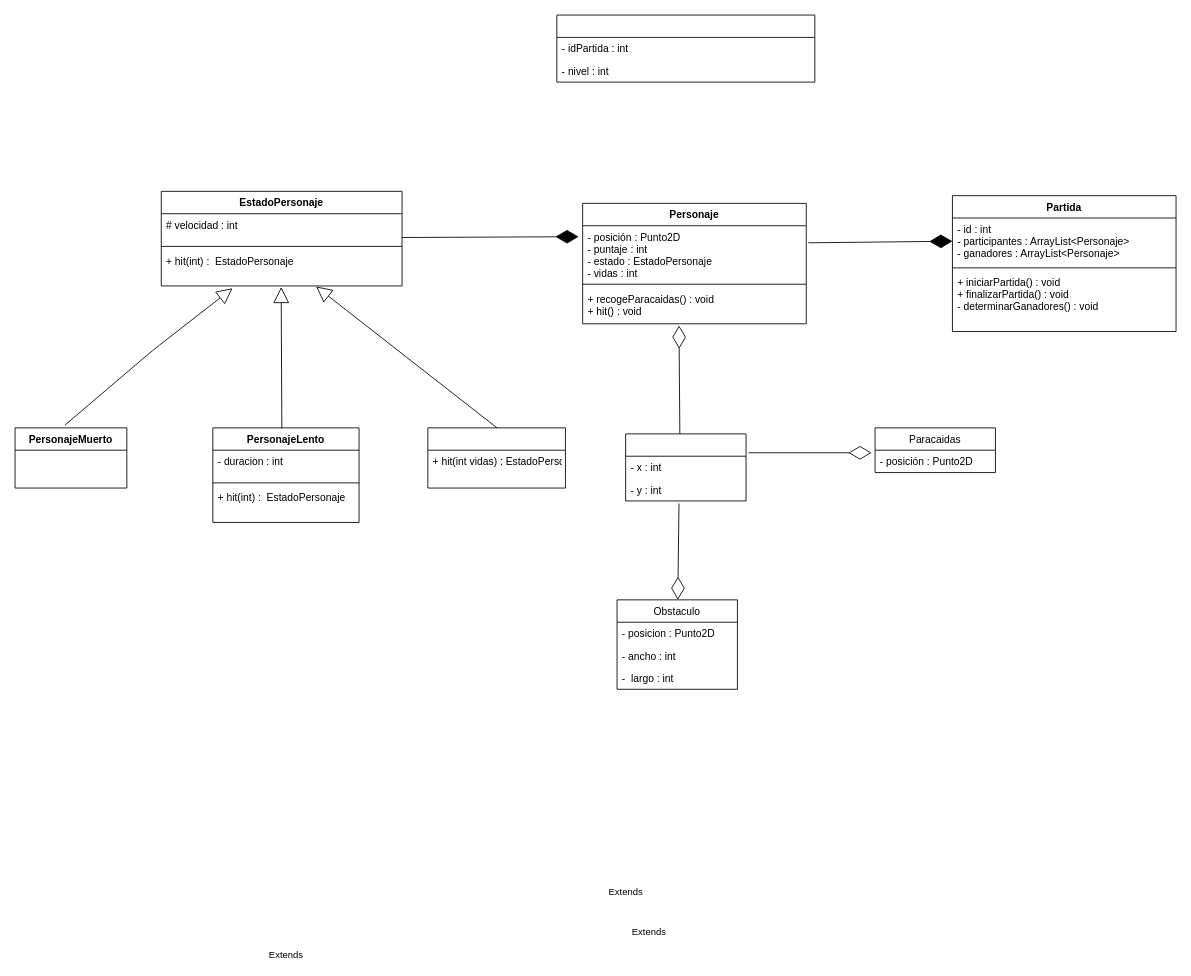
The diagram is 1191 pixels wide and 976 high, and some of its shapes have lost their labels. Here are the shapes that lost their labels. From the top down, the box of each, then its label:
(556, 14, 815, 82): Mapa
(427, 427, 565, 488): PersonajeNormal
(625, 433, 746, 501): Punto2D
